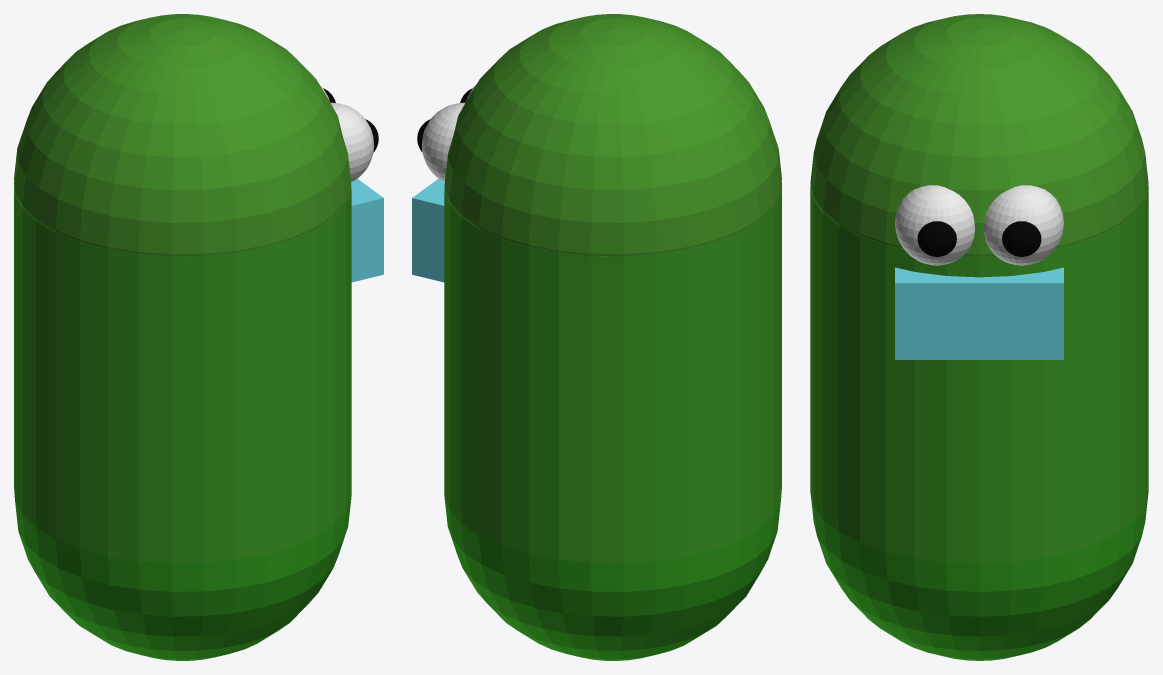
The model's file is mask_bean.fbx.
The picture shows the model from 3 angles, left to right: view 1: azimuth 30°, elevation 25°; view 2: azimuth 150°, elevation 25°; view 3: azimuth 270°, elevation 25°; orthographic projection.
Visible parts, largest first — view 1: Cylinder, Sphere, Sphere.001, Cube.002, Sphere.002; view 2: Cylinder, Sphere, Sphere.001, Cube.002, Sphere.003; view 3: Cylinder, Sphere, Sphere.001, Cube.002, Sphere.002, Sphere.003, Sphere.004, Sphere.005.
Part boxes in pixels (x1,y1,x2,y2): Cylinder: [14, 180, 351, 563]; Sphere: [14, 14, 351, 256]; Sphere.001: [15, 498, 351, 660]; Cube.002: [351, 178, 383, 282]; Sphere.002: [331, 102, 374, 182]; Cylinder: [444, 180, 781, 563]; Sphere: [444, 14, 781, 256]; Sphere.001: [444, 498, 780, 660]; Cube.002: [412, 178, 444, 282]; Sphere.003: [421, 102, 464, 182]; Cylinder: [810, 185, 1148, 563]; Sphere: [810, 14, 1148, 256]; Sphere.001: [810, 494, 1148, 660]; Cube.002: [895, 267, 1063, 359]; Sphere.002: [895, 185, 974, 265]; Sphere.003: [984, 185, 1063, 265]; Sphere.004: [917, 221, 956, 256]; Sphere.005: [1002, 221, 1041, 256].
Bounding box in the file's own units: 435 × 804 × 400.
